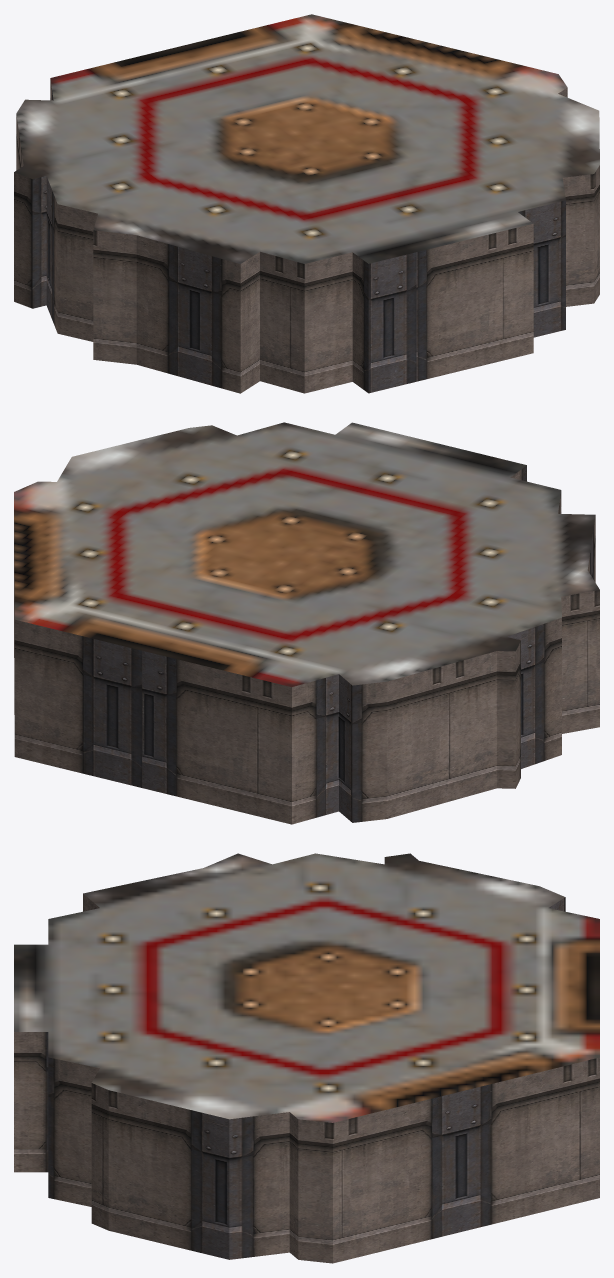
The model's file is bsealed_medium_a_60.glb.
3 renders of one model, top to bottom at view 1: azimuth 30°, elevation 25°; view 2: azimuth 150°, elevation 25°; view 3: azimuth 270°, elevation 25°, orthographic. The views are drawn at different scales.
Visible parts, largest first — view 1: buildings/saxarba/bsealed_medium/bsealed_medium_a_60; view 2: buildings/saxarba/bsealed_medium/bsealed_medium_a_60; view 3: buildings/saxarba/bsealed_medium/bsealed_medium_a_60.
Boxes of the visible parts, box(x1,y1,x2,y2) form: buildings/saxarba/bsealed_medium/bsealed_medium_a_60: box(14, 14, 599, 393); buildings/saxarba/bsealed_medium/bsealed_medium_a_60: box(14, 422, 599, 824); buildings/saxarba/bsealed_medium/bsealed_medium_a_60: box(14, 853, 599, 1263).
Size of the model in its own units: 74 by 18 by 68.
